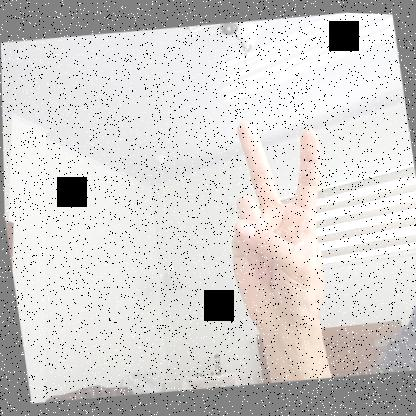V: (206, 109, 345, 339)
